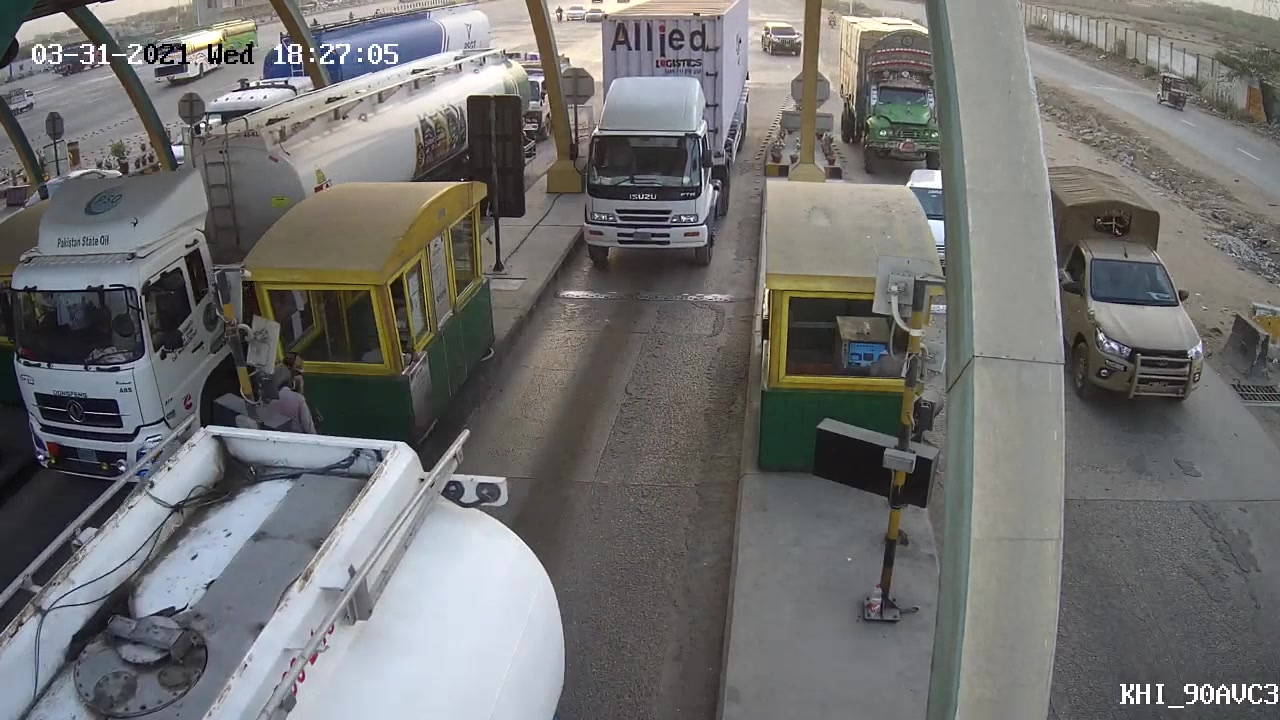F6: (566, 2, 754, 283)
